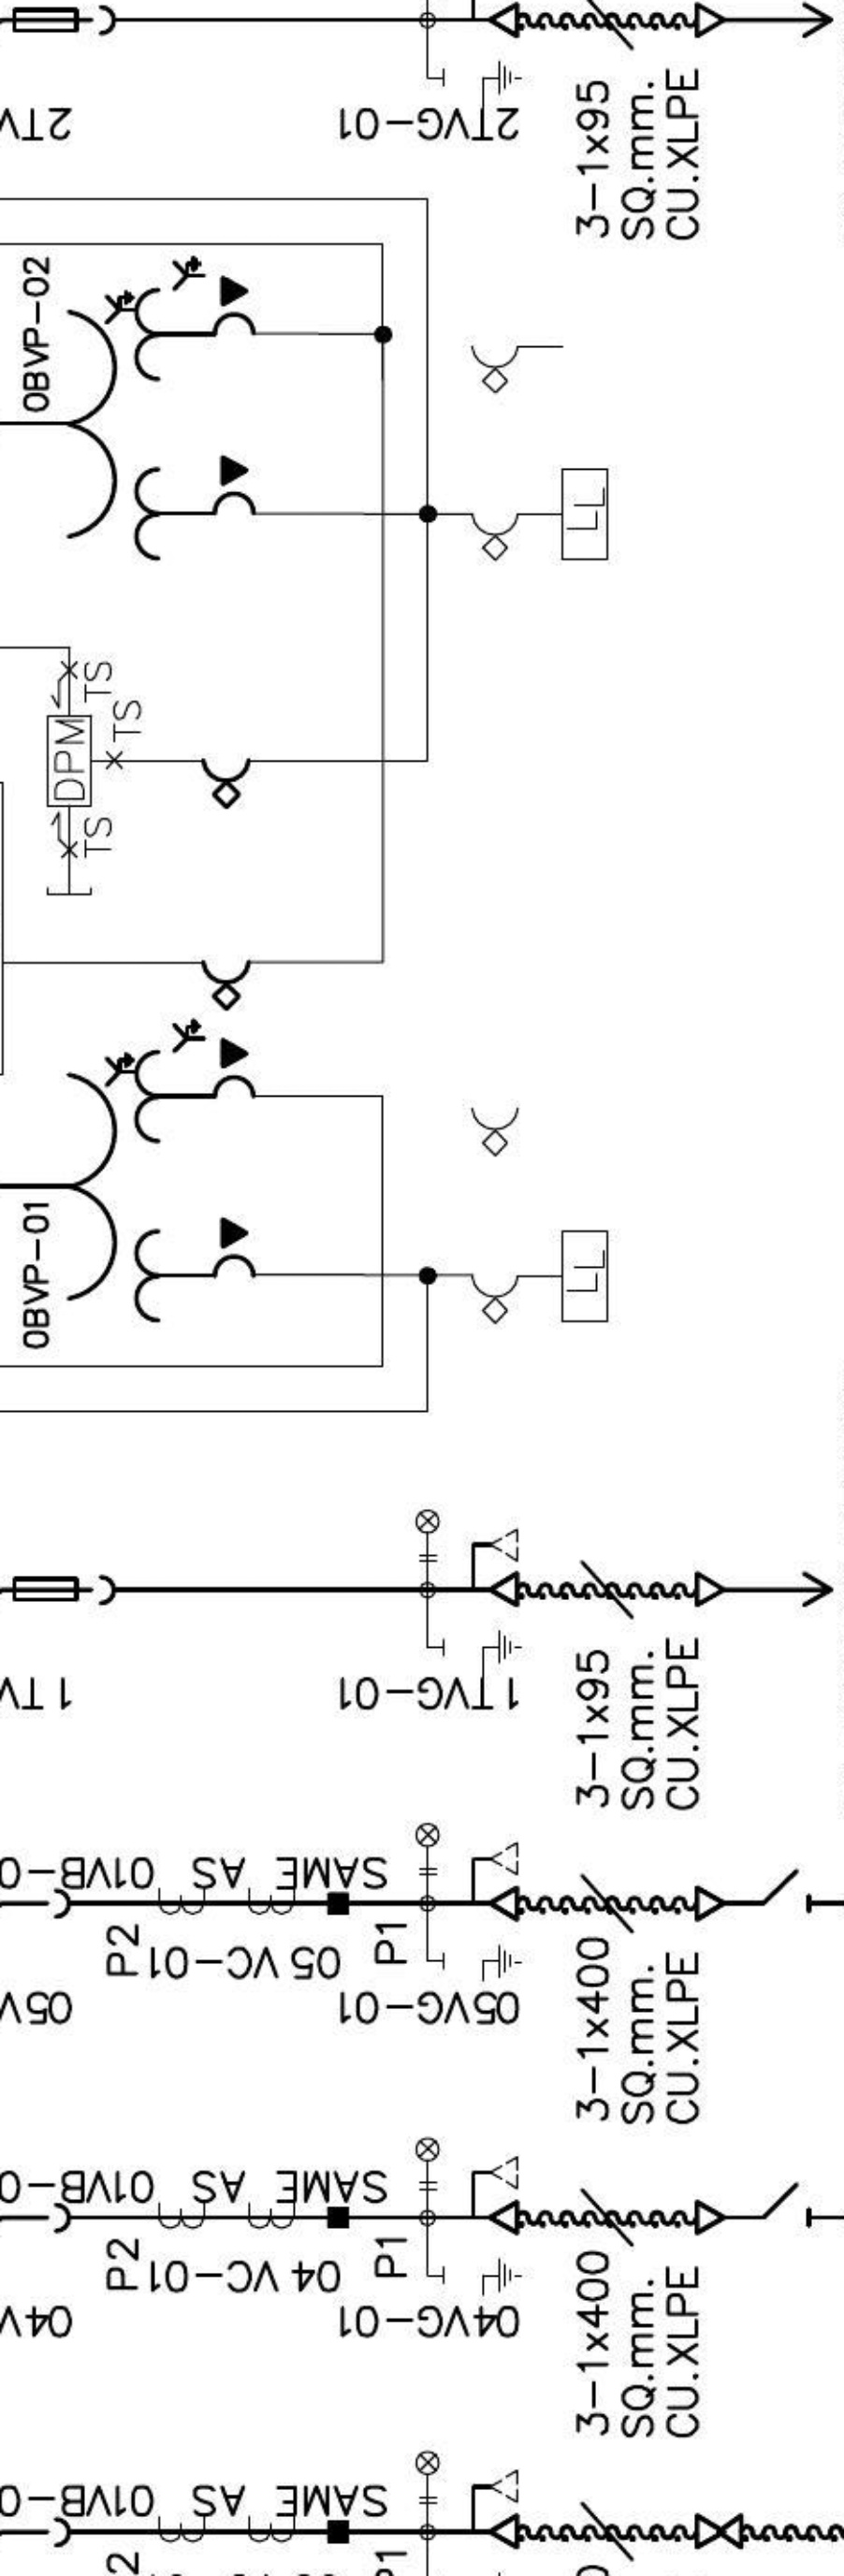22_gs: (440, 1630, 522, 1681), (442, 61, 524, 110), (438, 2256, 522, 2298), (440, 1945, 522, 1985)
22_ll: (414, 2449, 442, 2505), (414, 1506, 440, 1564), (414, 2136, 440, 2192), (414, 1822, 440, 1878)
DPM: (44, 713, 95, 808)
LL: (558, 465, 611, 563), (560, 1226, 612, 1324)
terminator_single: (693, 1883, 726, 1924), (693, 2196, 726, 2238), (693, 1569, 726, 1608)
terminator_splicing_kits: (693, 2514, 744, 2551)
terminator_w_future: (468, 2466, 521, 2551), (468, 1840, 521, 1925), (468, 2152, 521, 2236), (468, 1526, 521, 1610)
